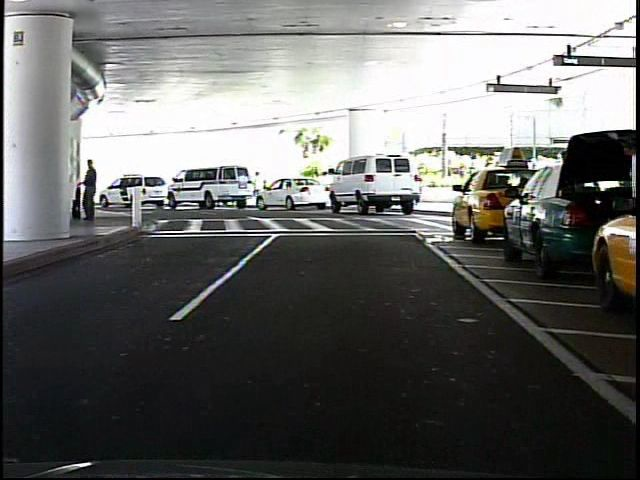person: (595, 132, 639, 284), (84, 157, 103, 223), (251, 170, 267, 206)
